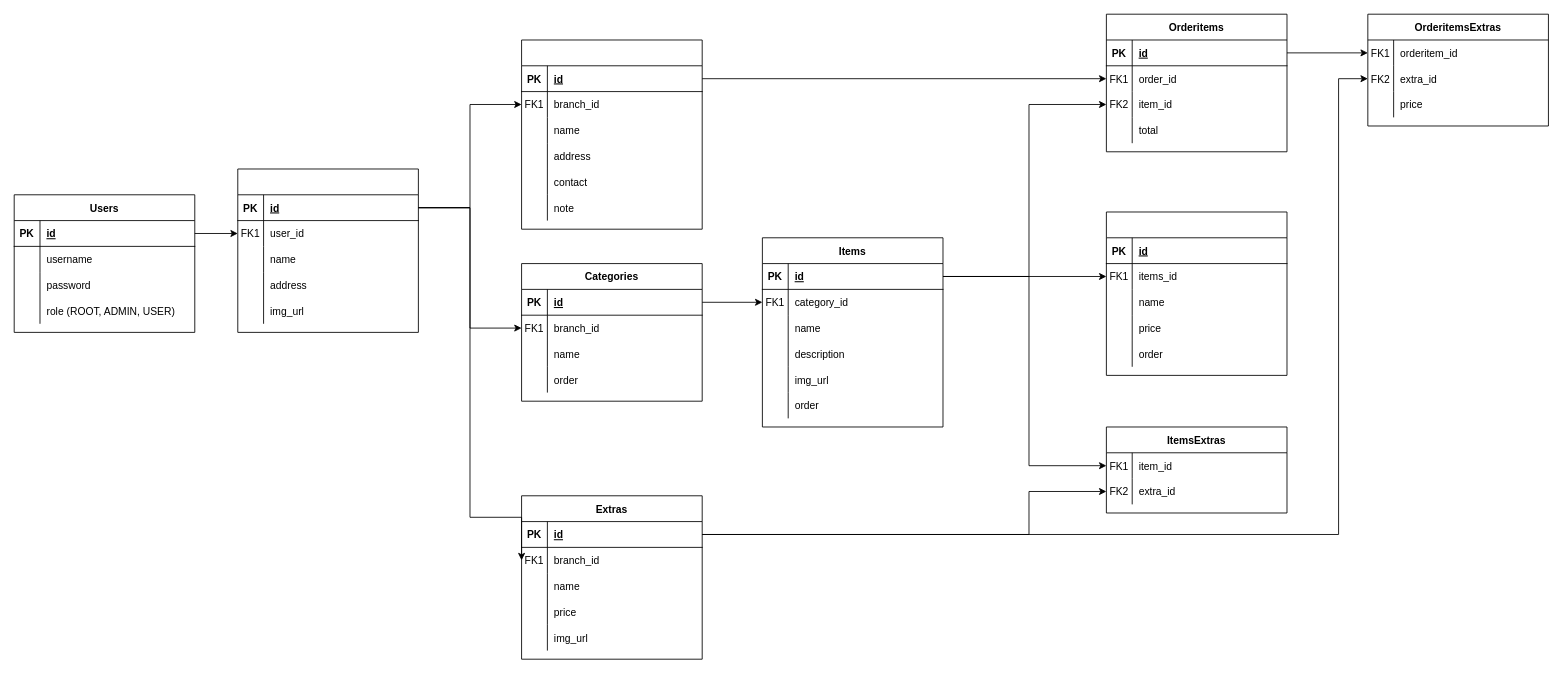
This 1563x673 diagram has some shape labels left out. Each missing label, with the box of its shape:
Branches: (237, 168, 418, 332)
Orders: (521, 39, 702, 229)
Prices: (1106, 211, 1287, 375)
